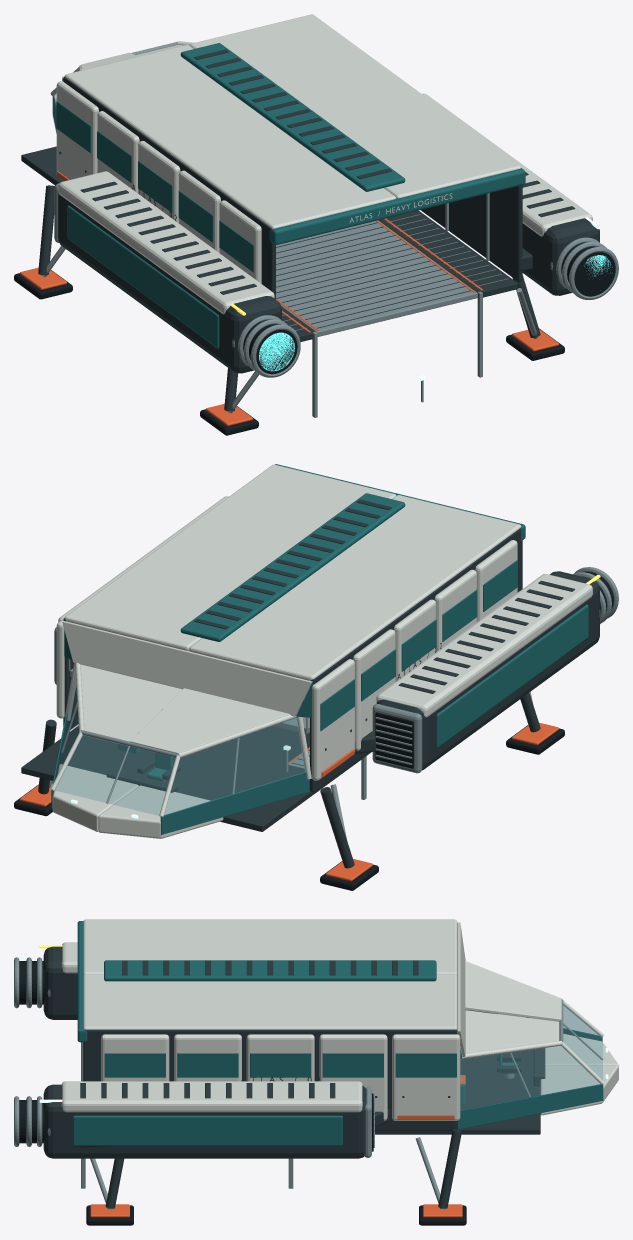
The model's file is atlas.glb.
3 views of the same model, one above another, from view 1: azimuth 30°, elevation 25°; view 2: azimuth 150°, elevation 25°; view 3: azimuth 270°, elevation 25° (orthographic). The views are drawn at different scales.
Visible parts, largest first — view 1: Hull / Ceramic / warm ivory, Hull / Titanium / graphite, Hull / Survey / deep petrol, MainLift / Machined alloy, Hull / Machined alloy, Hull / Gaskets / rubber, MainLift / Titanium / graphite, Hull / Rescue / vermilion, Hull / Drive / ion blue; view 2: Hull / Ceramic / warm ivory, Hull / Titanium / graphite, Hull / Survey / deep petrol, Hull / Canopy glass, Hull / Machined alloy, Hull / Gaskets / rubber, Hull / Rescue / vermilion; view 3: Hull / Ceramic / warm ivory, Hull / Survey / deep petrol, Hull / Titanium / graphite, Hull / Canopy glass, Hull / Machined alloy, Hull / Gaskets / rubber, Hull / Rescue / vermilion.
Boxes of the visible parts, x1,y1,x2,y2 form: Hull / Ceramic / warm ivory: (50,14,592,314); Hull / Titanium / graphite: (21,49,599,411); Hull / Survey / deep petrol: (52,43,525,348); MainLift / Machined alloy: (276,220,477,336); Hull / Machined alloy: (40,41,618,417); Hull / Gaskets / rubber: (14,242,615,435); MainLift / Titanium / graphite: (276,222,470,328); Hull / Rescue / vermilion: (19,171,559,425); Hull / Drive / ion blue: (259,255,612,371); Hull / Ceramic / warm ivory: (50,464,592,838); Hull / Titanium / graphite: (21,499,599,868); Hull / Survey / deep petrol: (51,464,588,834); Hull / Canopy glass: (54,672,305,815); Hull / Machined alloy: (49,567,618,839); Hull / Gaskets / rubber: (14,572,613,890); Hull / Rescue / vermilion: (19,705,559,881); Hull / Ceramic / warm ivory: (61,919,618,1120); Hull / Survey / deep petrol: (72,921,603,1145); Hull / Titanium / graphite: (43,946,545,1208); Hull / Canopy glass: (460,1004,602,1109); Hull / Machined alloy: (14,957,603,1209); Hull / Gaskets / rubber: (19,961,466,1225); Hull / Rescue / vermilion: (90,1033,462,1217).
Size of the model in its own units: 18.46 by 9.79 by 29.11.
